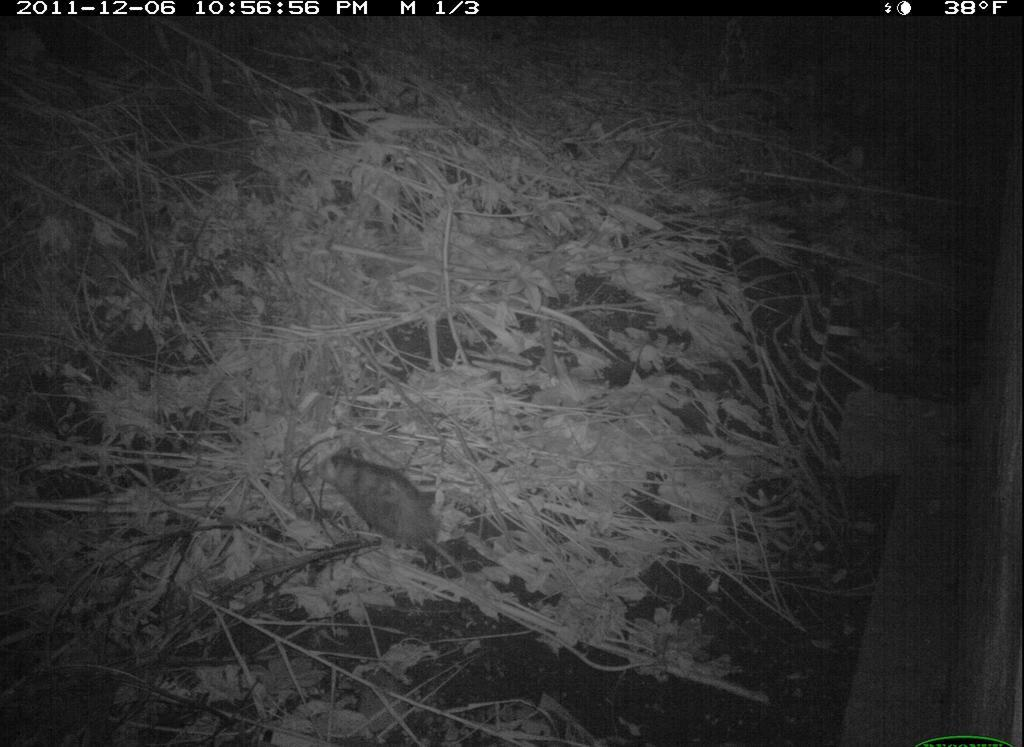opossum: (308, 433, 495, 609)
